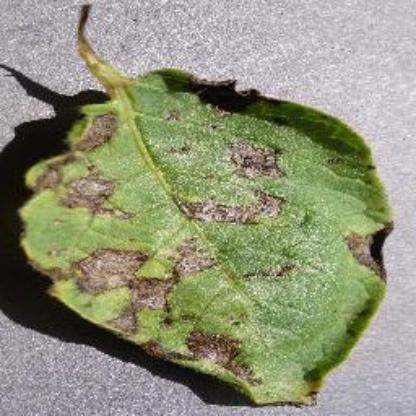Early-Blight: (18, 12, 394, 406)
